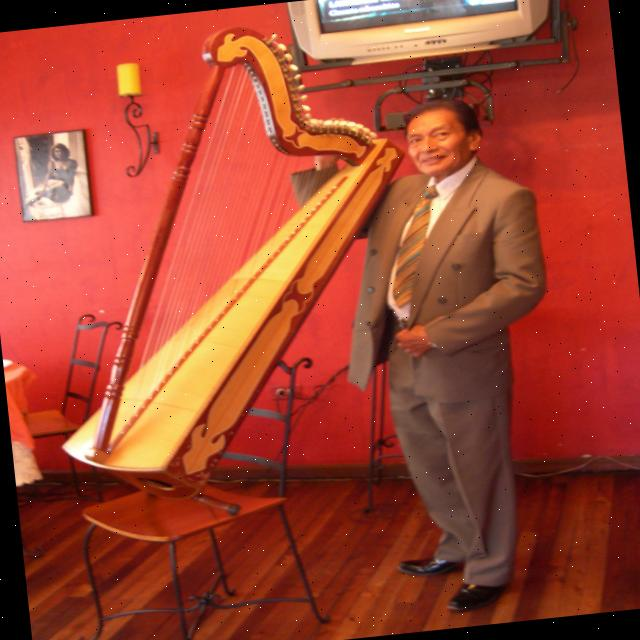harp: (22, 8, 439, 508)
